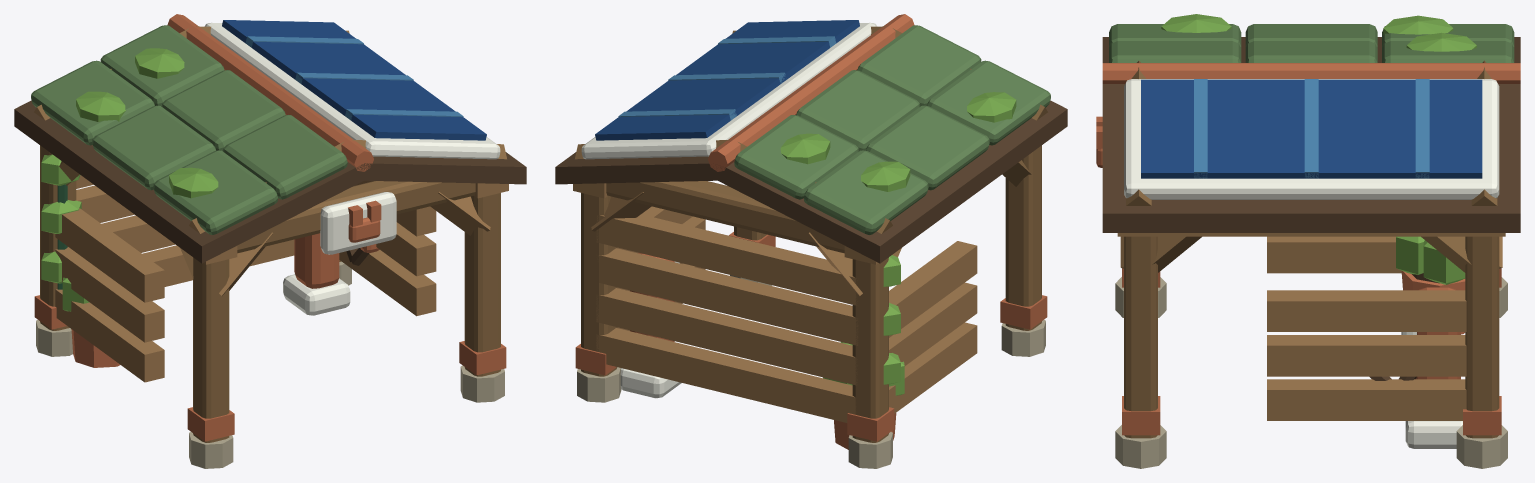
The model's file is garage.glb.
3 views of the same model, side by side, from view 1: azimuth 30°, elevation 25°; view 2: azimuth 150°, elevation 25°; view 3: azimuth 270°, elevation 25° (orthographic). The views are drawn at different scales.
Parts seen in each view (by area): view 1: Garage_solar_glass, Garage_roof_deck_left, Garage_living_roof, Garage_timber_post, Garage_living_roof.004, Garage_living_roof.001, Garage_timber_post.002, Garage_solar_ceramic_frame, Garage_living_roof.003, Garage_side_plank.002, Garage_living_roof.005, Garage_copper_ridge (+34 smaller); view 2: Garage_solar_glass, Garage_back_plank.001, Garage_roof_deck_left, Garage_back_plank.002, Garage_back_plank, Garage_back_plank.003, Garage_header.001, Garage_living_roof.004, Garage_living_roof.001, Garage_living_roof, Garage_solar_ceramic_frame, Garage_timber_post (+25 smaller); view 3: Garage_solar_glass, Garage_roof_deck_right, Garage_solar_ceramic_frame, Garage_side_plank.004, Garage_side_plank.005, Garage_side_plank.003, Garage_copper_ridge, Garage_timber_post.003, Garage_timber_post.002, Garage_side_plank, Garage_living_roof.001, Garage_living_roof (+24 smaller).
Part boxes in pixels (box(x1,y1,x2,y2)): Garage_solar_glass: box(222, 20, 486, 140); Garage_roof_deck_left: box(14, 100, 364, 263); Garage_living_roof: box(223, 115, 347, 199); Garage_timber_post: box(193, 257, 229, 442); Garage_living_roof.004: box(92, 105, 215, 190); Garage_living_roof.001: box(161, 70, 285, 151); Garage_timber_post.002: box(464, 193, 500, 376); Garage_solar_ceramic_frame: box(204, 22, 500, 159); Garage_living_roof.003: box(153, 150, 277, 234); Garage_side_plank.002: box(55, 208, 164, 302); Garage_living_roof.005: box(31, 60, 154, 145); Garage_copper_ridge: box(167, 14, 373, 171); Garage_solar_glass: box(595, 20, 859, 140); Garage_back_plank.001: box(596, 288, 857, 385); Garage_roof_deck_left: box(717, 100, 1067, 263); Garage_back_plank.002: box(597, 248, 858, 345); Garage_back_plank: box(596, 328, 856, 422); Garage_back_plank.003: box(596, 214, 857, 305); Garage_header.001: box(606, 181, 844, 253); Garage_living_roof.004: box(866, 105, 989, 190); Garage_living_roof.001: box(796, 70, 920, 151); Garage_living_roof: box(857, 25, 981, 106); Garage_solar_ceramic_frame: box(581, 22, 877, 159); Garage_timber_post: box(1005, 145, 1041, 330); Garage_solar_glass: box(1141, 79, 1482, 178); Garage_roof_deck_right: box(1102, 84, 1520, 232); Garage_solar_ceramic_frame: box(1124, 79, 1499, 199); Garage_side_plank.004: box(1267, 335, 1466, 376); Garage_side_plank.005: box(1267, 290, 1466, 331); Garage_side_plank.003: box(1267, 379, 1466, 420); Garage_copper_ridge: box(1102, 63, 1520, 83); Garage_timber_post.003: box(1465, 236, 1499, 438); Garage_timber_post.002: box(1124, 236, 1157, 438); Garage_side_plank: box(1267, 236, 1401, 273); Garage_living_roof.001: box(1245, 41, 1377, 62); Garage_living_roof: box(1109, 41, 1241, 62).
Size of the model in its own units: 1.96 by 1.66 by 1.99.
